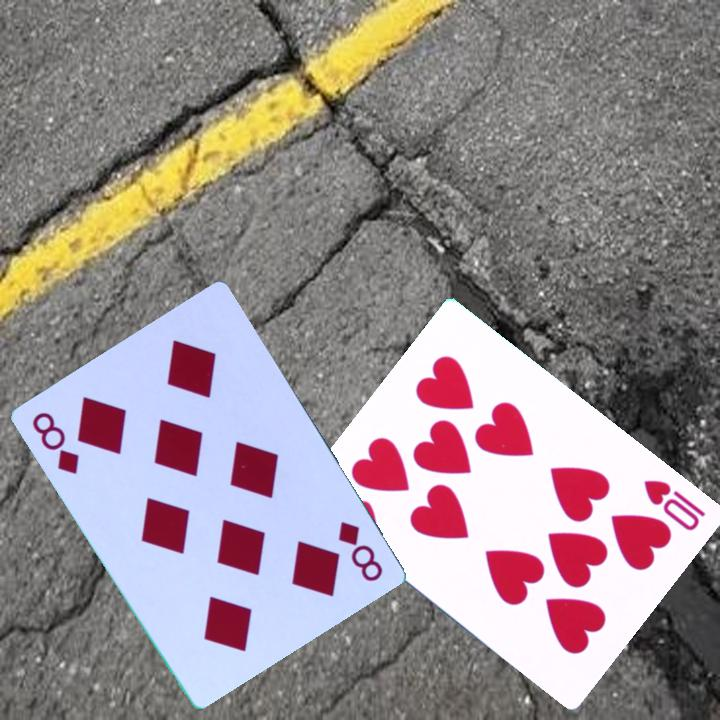10h: (640, 476, 710, 534)
8d: (27, 408, 82, 478), (334, 517, 386, 585)
